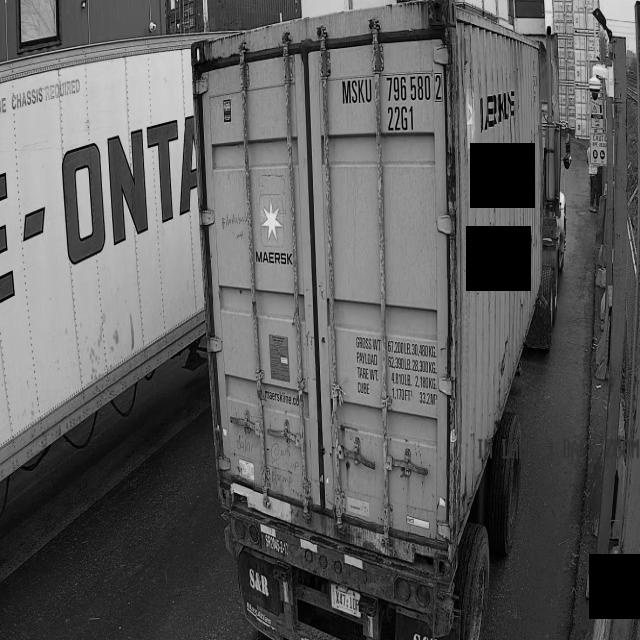container_company_logo: (238, 174, 303, 289)
container_number: (337, 64, 441, 453)
license_plate: (320, 581, 372, 624)
truck_without_container: (192, 0, 569, 640)
